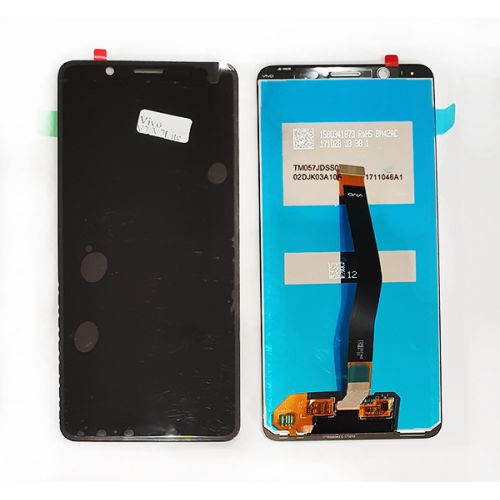Phone: (54, 57, 245, 446), (254, 61, 445, 443)
